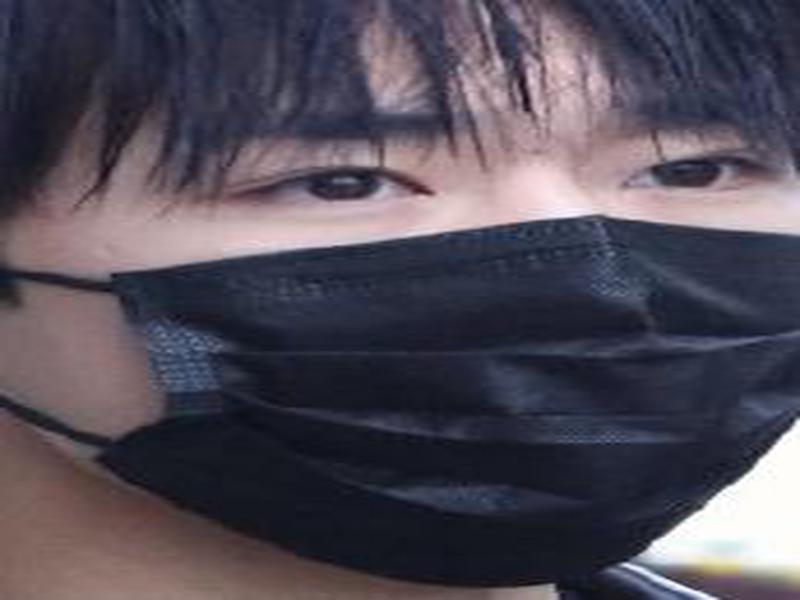with_mask: (1, 2, 799, 589)
